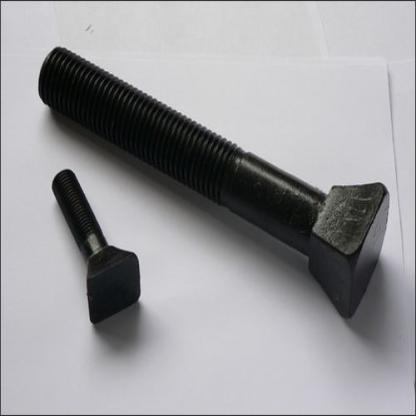FOD: (36, 43, 392, 322), (51, 165, 142, 324)
